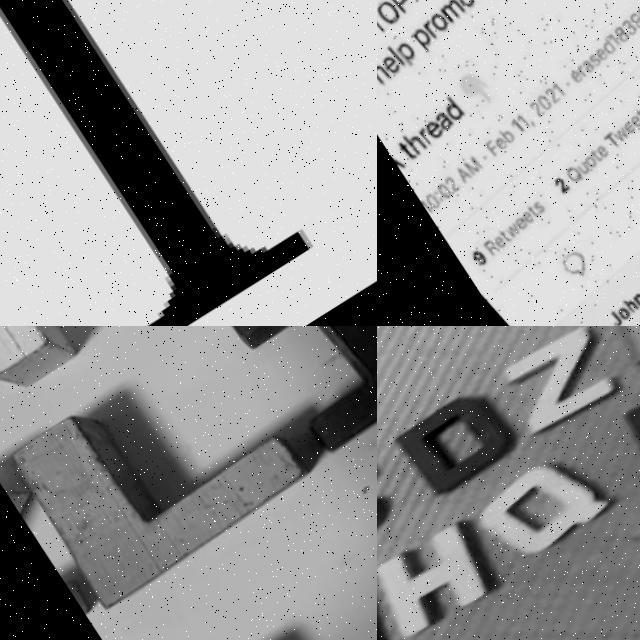0: (431, 179, 451, 200), (532, 90, 551, 112), (420, 189, 438, 210)
1: (0, 0, 313, 326), (547, 79, 566, 101), (511, 110, 529, 130), (505, 115, 521, 135), (604, 29, 620, 49), (416, 197, 429, 213), (632, 3, 640, 23)
2: (439, 172, 458, 193), (524, 97, 543, 118), (540, 84, 558, 105), (548, 174, 567, 193)
3: (617, 15, 637, 36)
8: (610, 22, 629, 43)
9: (466, 247, 485, 266), (624, 8, 640, 29)
D: (392, 385, 515, 498)
H: (377, 512, 503, 640)
I: (214, 326, 377, 453)
L: (0, 326, 316, 609)
M: (608, 353, 640, 486)
Q: (470, 443, 610, 566)
Z: (489, 326, 629, 445)
